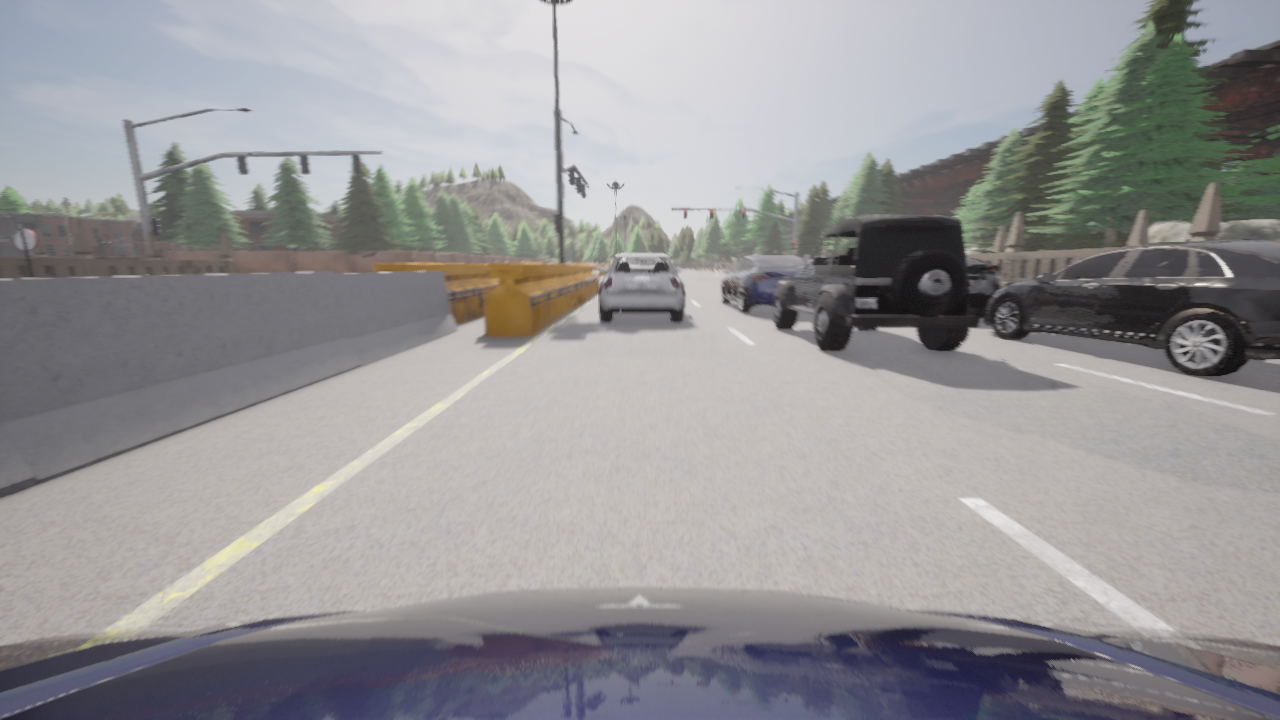cyclist: (0, 588, 1279, 719), (984, 239, 1279, 377), (772, 215, 979, 351), (599, 254, 684, 321), (720, 255, 804, 312), (966, 257, 999, 317), (809, 260, 811, 263)
